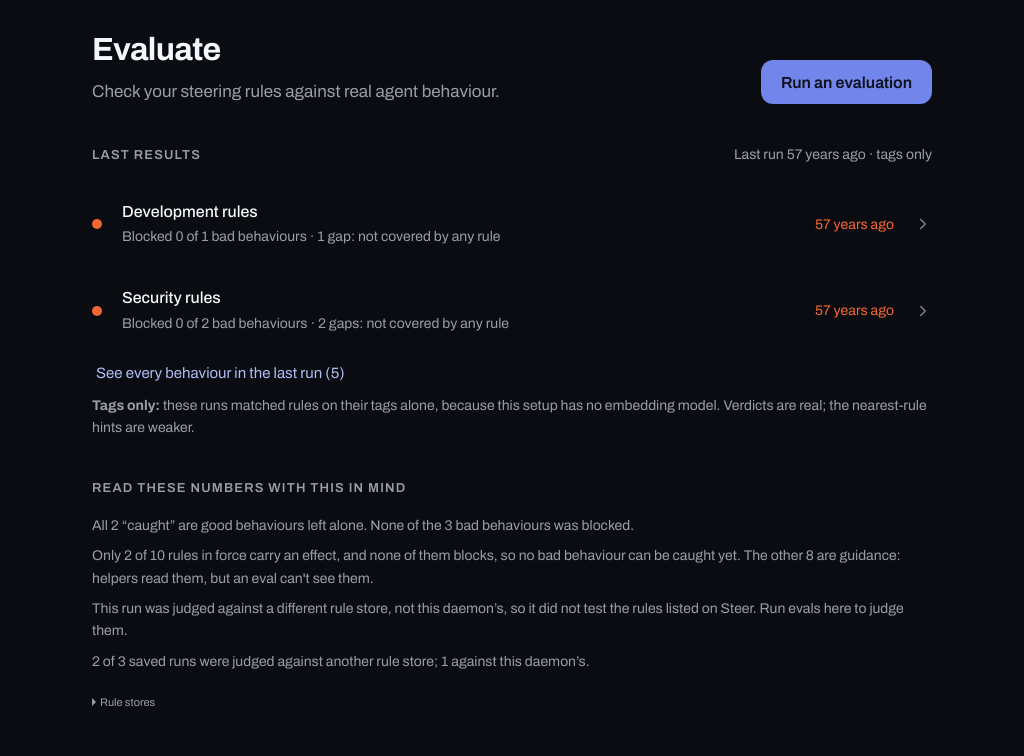
Test: codex r1 #9 / r2 #4, #6 / r3 #1: a run made here, ordered without clocks › a deposit older than a read that answered is retired for good, whatever the clocks say
The image size is (1024, 756).
Click the button with test id "evaluate-all-behaviours": coordinates (220, 373) [92,360,349,387]
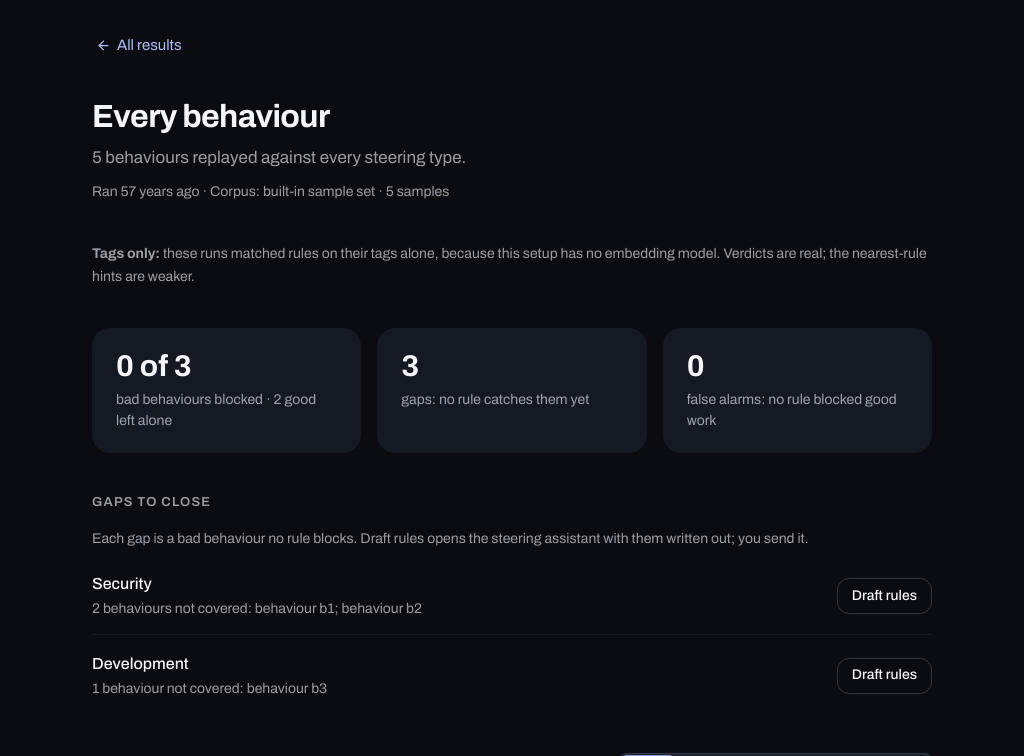
expect the element with test id "testing-evals-provenance" shows "Corpus: built-in sample set": met, box [92,181,466,203]
